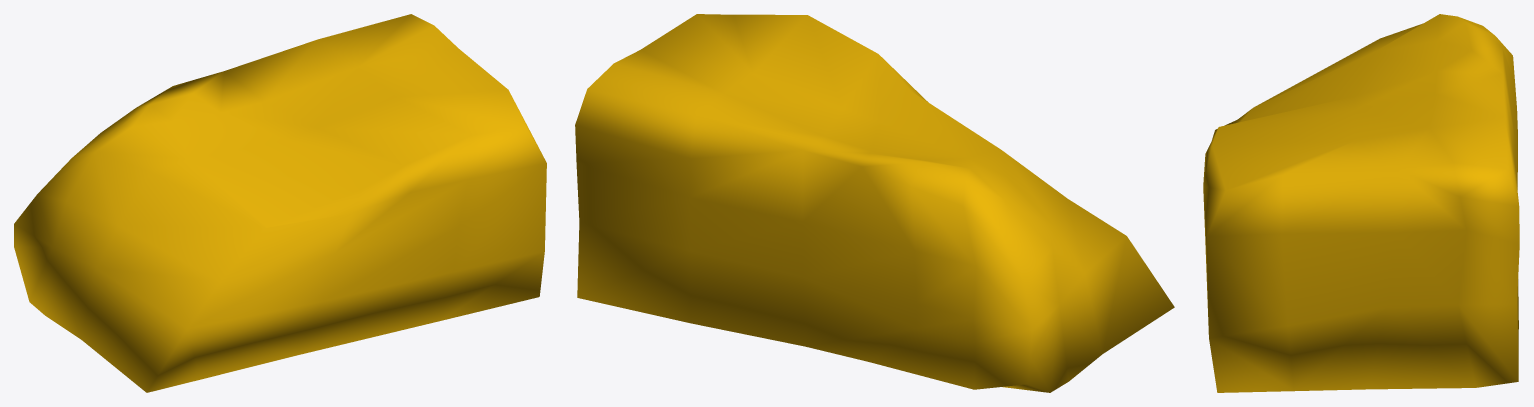
File: Stone_Block_06_Lod0.fbx
3 views of the same model, side by side, from view 1: azimuth 30°, elevation 25°; view 2: azimuth 150°, elevation 25°; view 3: azimuth 270°, elevation 25° (orthographic). The views are drawn at different scales.
Parts seen in each view (by area): view 1: Stone_Block_06_Lod0; view 2: Stone_Block_06_Lod0; view 3: Stone_Block_06_Lod0.
Part boxes in pixels (x1,y1,x2,y2): Stone_Block_06_Lod0: (14,14,546,392); Stone_Block_06_Lod0: (575,14,1174,392); Stone_Block_06_Lod0: (1203,14,1519,392).
Bounding box in the file's own units: 565 × 261 × 328.
